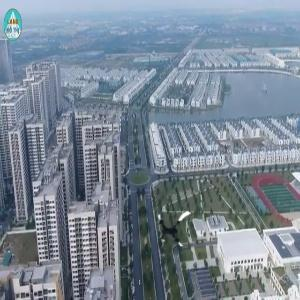drone: (154, 206, 199, 251)
